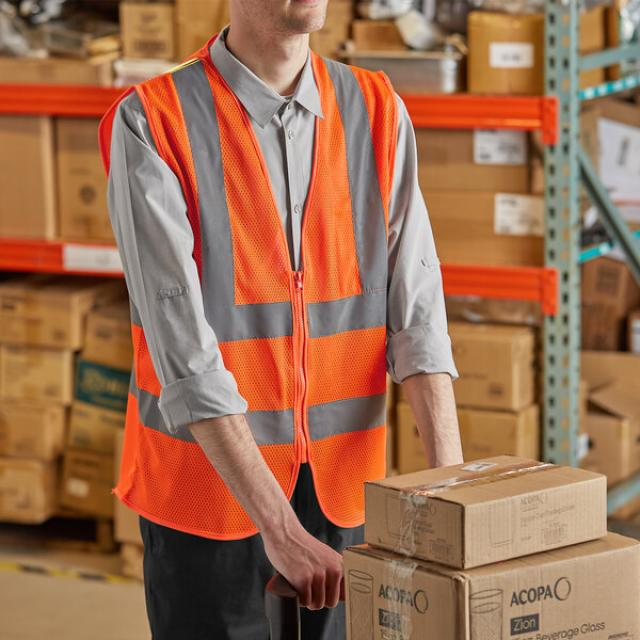vest: (94, 34, 409, 549)
